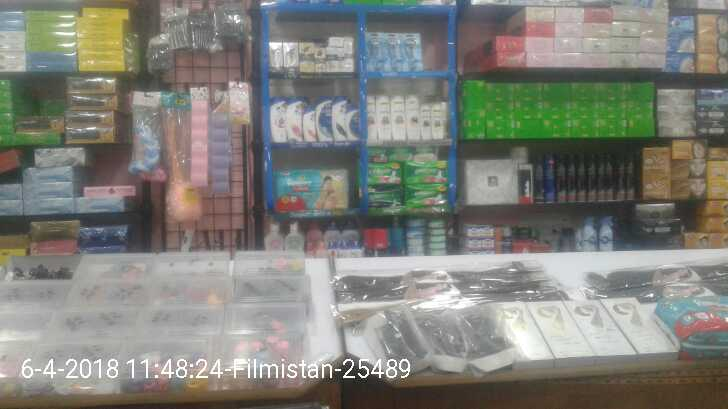venus: (402, 31, 423, 72), (382, 31, 402, 72), (366, 31, 382, 72)
